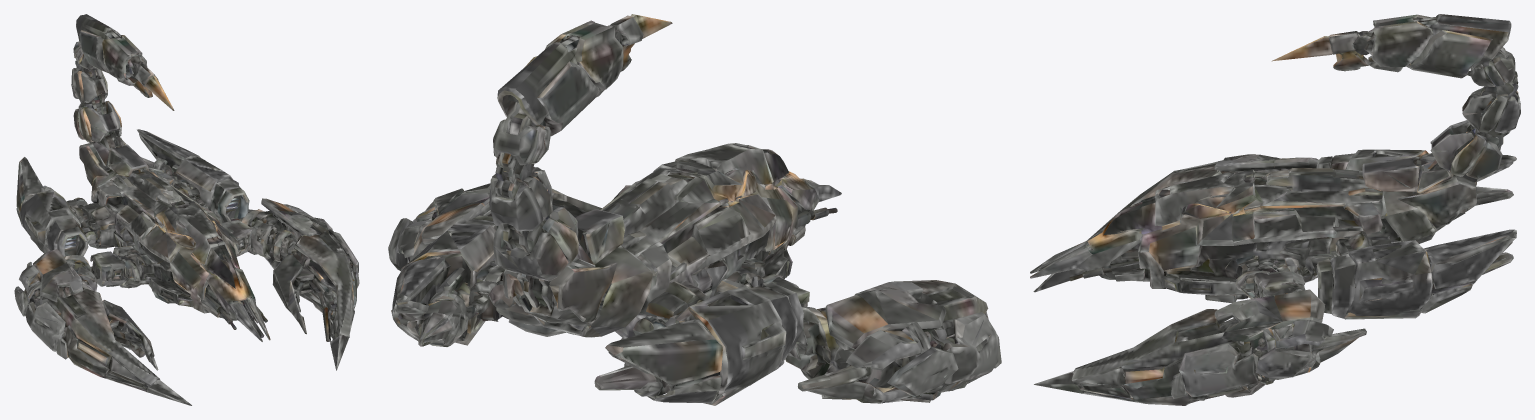
File: model_preview.glb
3 views of the same model, side by side, from view 1: azimuth 30°, elevation 25°; view 2: azimuth 150°, elevation 25°; view 3: azimuth 270°, elevation 25° (orthographic). The views are drawn at different scales.
Bounding box in the file's own units: 0.9351 × 0.6968 × 0.9565.
1 material, 1 textured.
